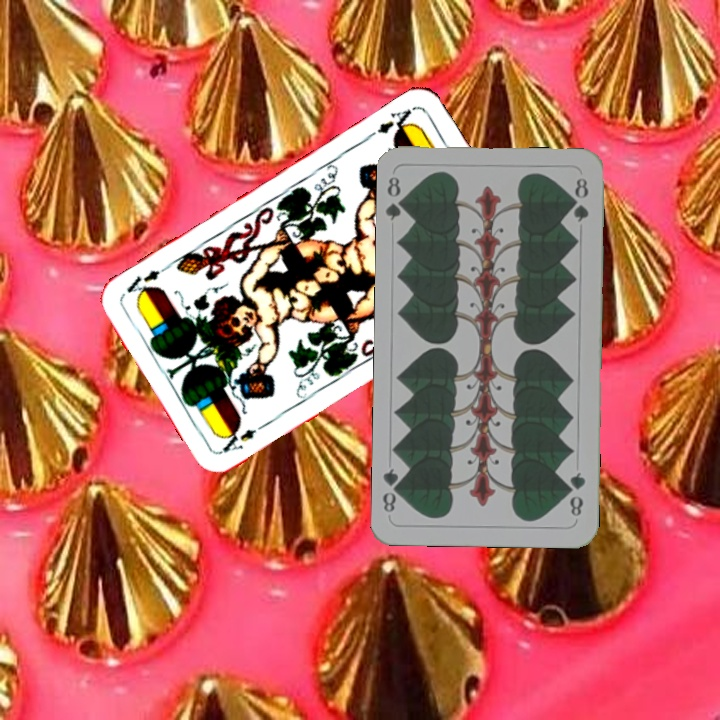EA: (363, 104, 418, 142), (218, 424, 259, 456)
G8: (383, 173, 410, 223), (564, 468, 588, 519)
